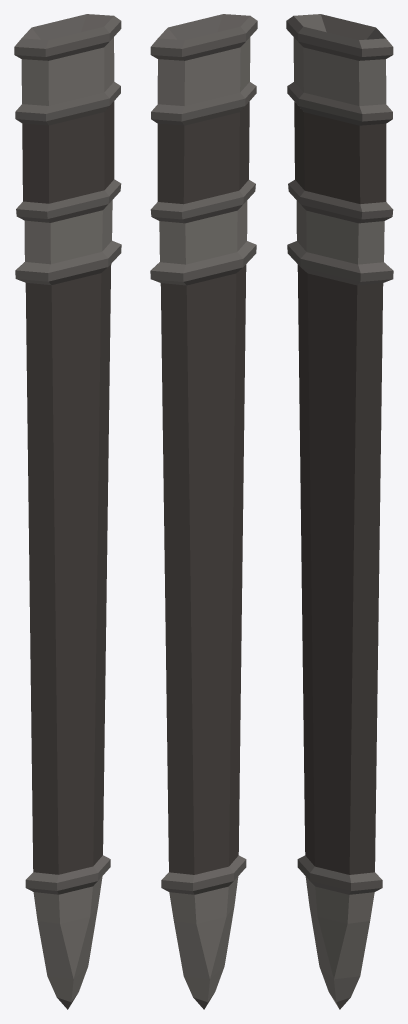
Rendered from SM_pwe_slavic_sword_scabbard_02.fbx.
3 renders of one model, left to right at view 1: azimuth 30°, elevation 25°; view 2: azimuth 210°, elevation 25°; view 3: azimuth 330°, elevation 25°, orthographic.
Visible parts, largest first — view 1: SM_pwe_slavic_sword_scabbard_02; view 2: SM_pwe_slavic_sword_scabbard_02; view 3: SM_pwe_slavic_sword_scabbard_02.
Part boxes in pixels (bbox=[...]): SM_pwe_slavic_sword_scabbard_02: bbox=[14, 14, 121, 1009]; SM_pwe_slavic_sword_scabbard_02: bbox=[150, 14, 257, 1009]; SM_pwe_slavic_sword_scabbard_02: bbox=[286, 14, 393, 1009].
Bounding box in the file's own units: 8.01 × 70.12 × 2.58.
